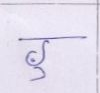u_matra: (21, 67, 48, 81)
